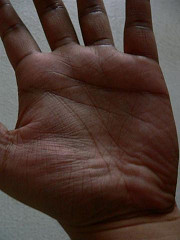palm: (27, 56, 175, 214)
